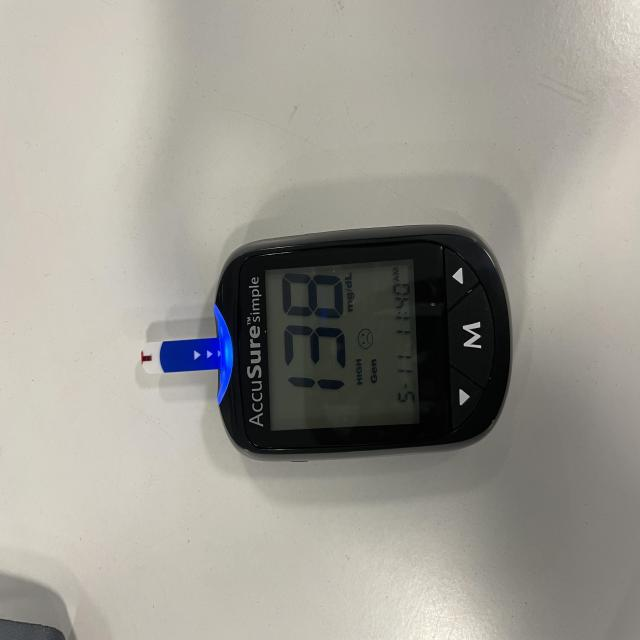gluco: (145, 174, 519, 460)
